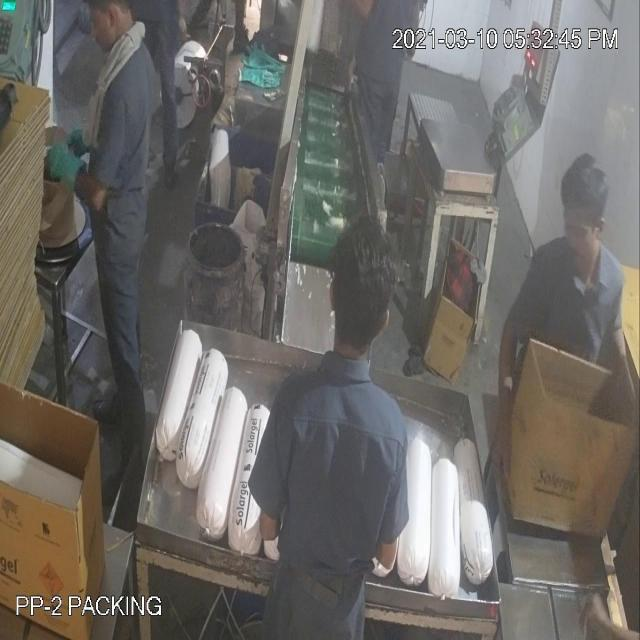No_Gloves: (40, 78, 512, 394)
